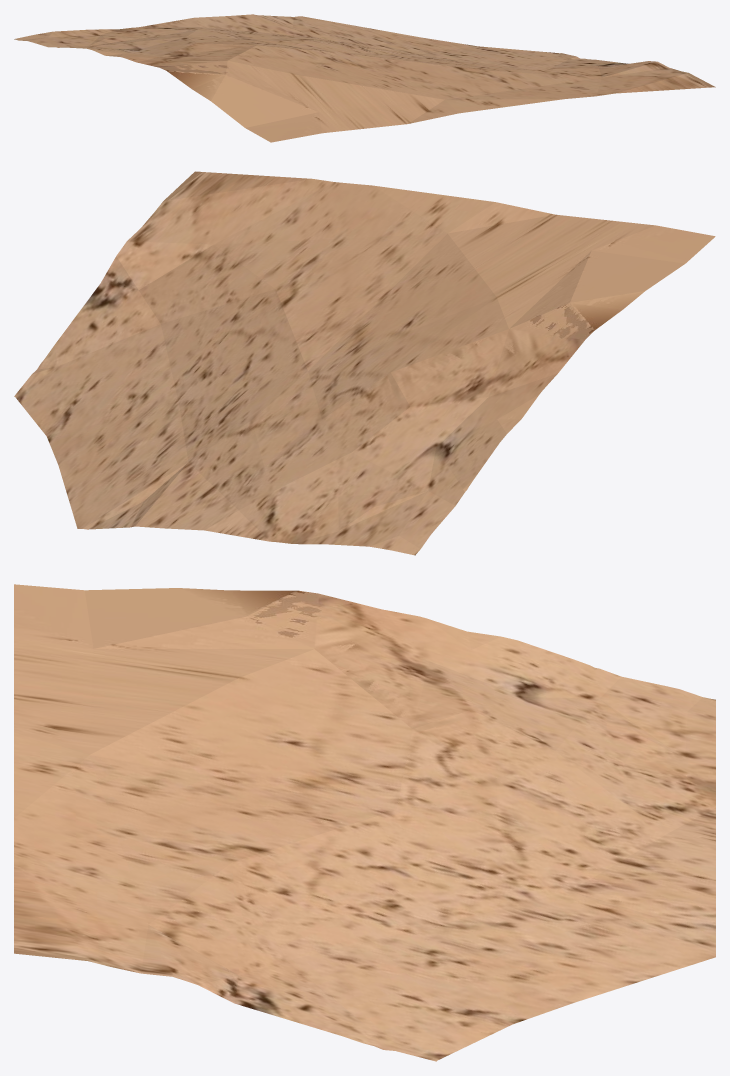
3 views of the same model, one above another, from view 1: azimuth 30°, elevation 25°; view 2: azimuth 150°, elevation 25°; view 3: azimuth 270°, elevation 25° (orthographic). The views are drawn at different scales.
Bounding box in the file's own units: 1.04 × 0.2966 × 1.04.
3 materials, 3 textured.
